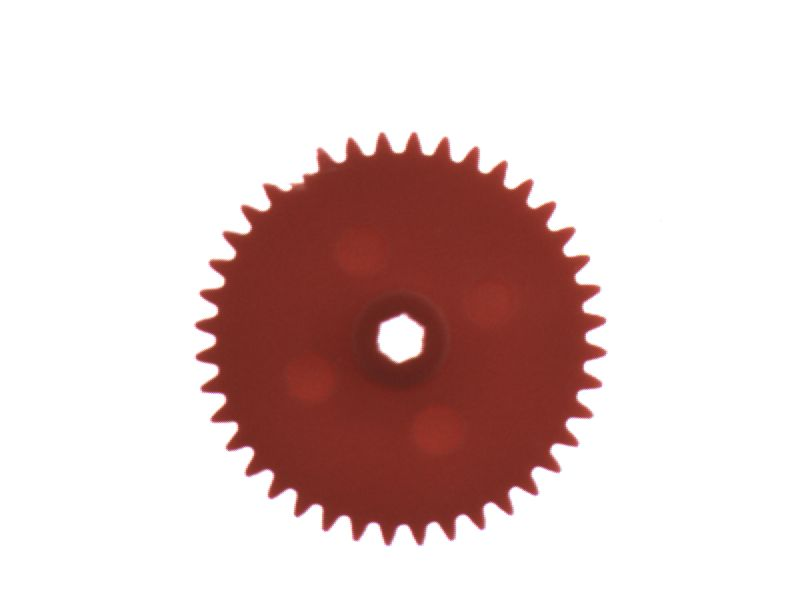defect_lack: (268, 149, 325, 201)
